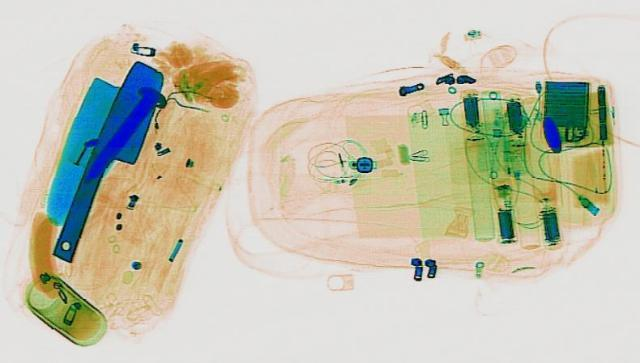Knife: (36, 59, 180, 262)
